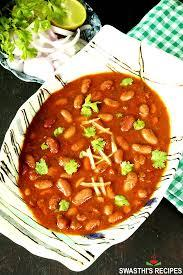rajma: (19, 75, 183, 251)
